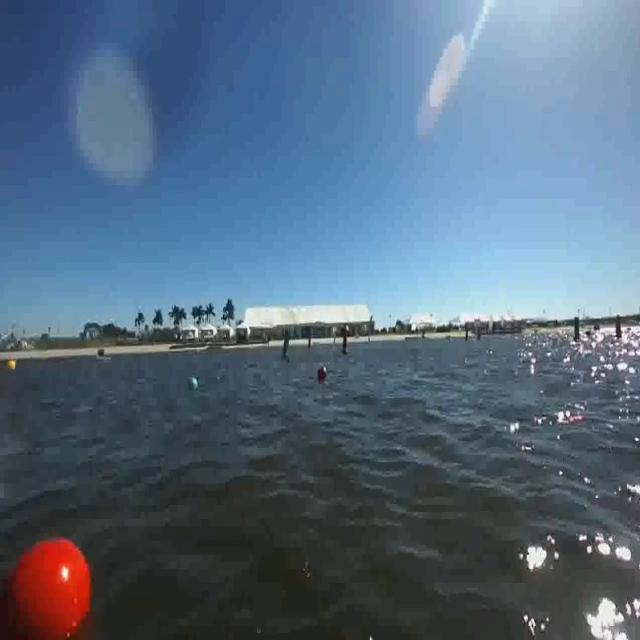green-buoy: (185, 373, 200, 396)
green-column-buoy: (280, 330, 292, 361)
red-buoy: (10, 538, 94, 639), (314, 365, 328, 382)
yellow-buoy: (8, 357, 16, 371)
